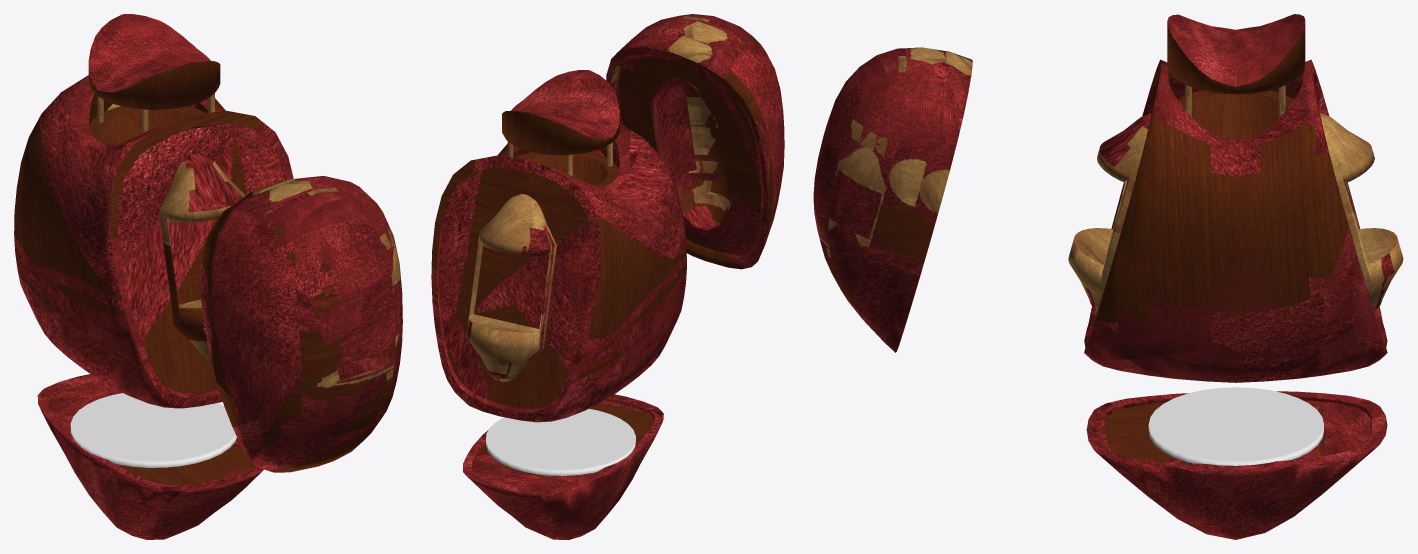
Rendered from Heart.fbx.
3 renders of one model, left to right at view 1: azimuth 30°, elevation 25°; view 2: azimuth 150°, elevation 25°; view 3: azimuth 270°, elevation 25°, orthographic. The views are drawn at different scales.
Visible parts, largest first — view 1: Side, Core, CoreWood, Bottom, Cylinder.001, CapTopVelvet, CoreDrums, BottomWood, CapTop, CapBotom, CapTopCopper; view 2: Core, CoreWood, SideInside, Side, Bottom, CoreDrums, Cylinder.001, CapTopVelvet, CapTop, BottomWood, CapBotom; view 3: Core, Side, Bottom, Cylinder.001, CoreDrums, CapTopVelvet, BottomWood, CapBotom, CapTop.
Part boxes in pixels (x1,y1,x2,y2): Side: [200, 176, 402, 472]; Core: [14, 75, 293, 408]; CoreWood: [89, 93, 284, 393]; Bottom: [37, 374, 263, 539]; Cylinder.001: [70, 393, 236, 467]; CapTopVelvet: [88, 14, 210, 92]; CoreDrums: [107, 104, 245, 360]; BottomWood: [48, 382, 255, 485]; CapTop: [88, 61, 220, 111]; CapBotom: [89, 106, 205, 144]; CapTopCopper: [97, 93, 214, 133]; Core: [431, 123, 686, 422]; CoreWood: [439, 140, 619, 408]; SideInside: [616, 55, 761, 254]; Side: [606, 14, 784, 269]; Bottom: [463, 394, 663, 539]; CoreDrums: [466, 149, 604, 381]; Cylinder.001: [486, 409, 635, 475]; CapTopVelvet: [510, 70, 619, 139]; CapTop: [502, 111, 619, 155]; BottomWood: [472, 401, 654, 489]; CapBotom: [515, 152, 619, 186]; Core: [1084, 59, 1387, 382]; Side: [813, 47, 972, 352]; Bottom: [1086, 391, 1387, 539]; Cylinder.001: [1148, 387, 1323, 465]; CoreDrums: [1068, 113, 1403, 310]; CapTopVelvet: [1167, 14, 1305, 86]; BottomWood: [1100, 400, 1371, 463]; CapBotom: [1178, 90, 1293, 139]; CapTop: [1167, 21, 1305, 94].
Bounding box in the file's own units: 491 × 1193 × 1231.
